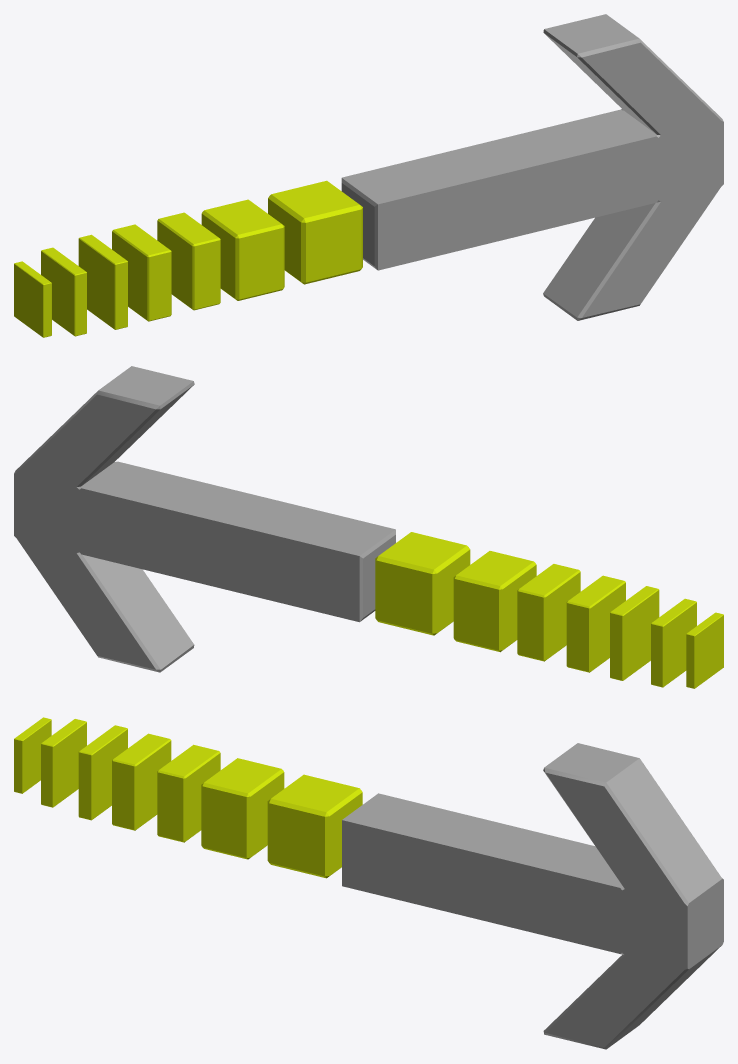
Rendered from PijlLinksM.fbx.
3 renders of one model, top to bottom at view 1: azimuth 30°, elevation 25°; view 2: azimuth 150°, elevation 25°; view 3: azimuth 330°, elevation 25°, orthographic.
Visible parts, largest first — view 1: pijl_links, losse_stukjes_links; view 2: pijl_links, losse_stukjes_links; view 3: pijl_links, losse_stukjes_links.
Part boxes in pixels (x1,y1,x2,y2): pijl_links: (341, 14, 723, 320); losse_stukjes_links: (14, 180, 362, 337); pijl_links: (14, 366, 395, 672); losse_stukjes_links: (375, 532, 723, 688); pijl_links: (342, 743, 723, 1049); losse_stukjes_links: (14, 717, 362, 878).
Size of the model in its own units: 1071 by 404 by 101.
